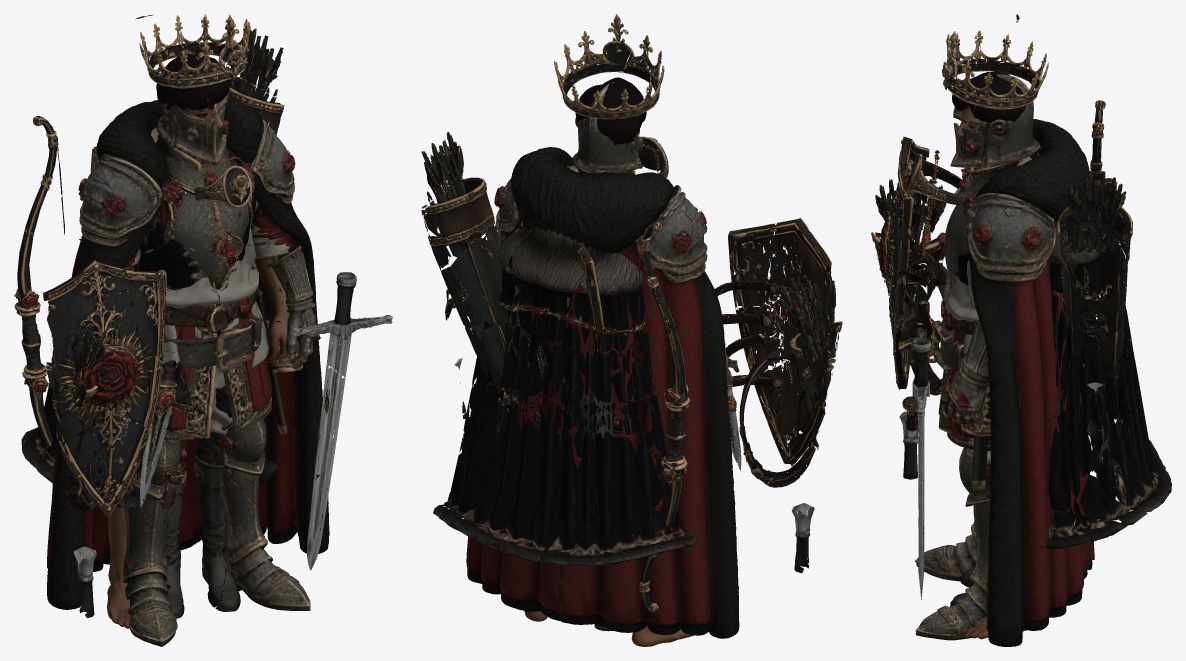
File: valkorion_modular.glb
3 views of the same model, side by side, from view 1: azimuth 30°, elevation 25°; view 2: azimuth 150°, elevation 25°; view 3: azimuth 270°, elevation 25° (orthographic). The views are drawn at different scales.
Visible parts, largest first — view 1: gear__dominus_kite_shield, VA_cloak_outer_screen_right, VA_cloak_outer_screen_left, gear__royal_body, gear__dominus_sword, gear__royal_feet, VA_pauldron_screen_left, gear__dominus_bow, gear__royal_head, gear__dominus_thorn_whip, VA_cuirass_main, foundation__torso (+33 smaller); view 2: gear__royal_cloak, VA_cloak_outer_screen_left, gear__dominus_kite_shield, gear__dominus_quiver, gear__dominus_thorn_whip, VA_cloak_fur_screen_left, VA_cloak_outer_screen_right, gear__dominus_bow, gear__royal_head, VA_cloak_fur_screen_right, VA_pauldron_screen_left, VA_helmet_shell (+5 smaller); view 3: VA_cloak_outer_screen_right, gear__royal_cloak, gear__dominus_quiver, gear__dominus_kite_shield, VA_pauldron_screen_right, VA_cloak_fur_screen_right, gear__royal_head, gear__dominus_thorn_whip, VA_helmet_shell, gear__dominus_sword, VA_boot_screen_right, foundation__head (+19 smaller).
Boxes of the visible parts, <box> form: gear__dominus_kite_shield: <box>43,260,192,517</box>; VA_cloak_outer_screen_right: <box>252,172,329,553</box>; VA_cloak_outer_screen_left: <box>47,187,162,609</box>; gear__royal_body: <box>133,147,258,438</box>; gear__dominus_sword: <box>292,272,392,570</box>; gear__royal_feet: <box>165,454,240,618</box>; VA_pauldron_screen_left: <box>78,154,162,247</box>; gear__dominus_bow: <box>14,116,99,455</box>; gear__royal_head: <box>135,14,250,88</box>; gear__dominus_thorn_whip: <box>46,315,108,617</box>; VA_cuirass_main: <box>153,180,248,290</box>; foundation__torso: <box>130,127,266,367</box>; gear__royal_cloak: <box>433,227,697,565</box>; VA_cloak_outer_screen_left: <box>558,241,739,638</box>; gear__dominus_kite_shield: <box>715,217,832,466</box>; gear__dominus_quiver: <box>421,132,529,418</box>; gear__dominus_thorn_whip: <box>739,274,842,573</box>; VA_cloak_fur_screen_left: <box>562,171,674,255</box>; VA_cloak_outer_screen_right: <box>466,223,568,620</box>; gear__dominus_bow: <box>577,221,690,611</box>; gear__royal_head: <box>554,14,664,119</box>; VA_cloak_fur_screen_right: <box>511,147,581,234</box>; VA_pauldron_screen_left: <box>636,185,707,282</box>; VA_helmet_shell: <box>572,82,643,173</box>; VA_cloak_outer_screen_right: <box>968,219,1090,646</box>; gear__royal_cloak: <box>1043,196,1171,549</box>; gear__dominus_quiver: <box>1057,171,1132,435</box>; gear__dominus_kite_shield: <box>879,136,947,431</box>; VA_pauldron_screen_right: <box>967,193,1056,281</box>; VA_cloak_fur_screen_right: <box>975,143,1088,221</box>; gear__royal_head: <box>942,14,1048,109</box>; gear__dominus_thorn_whip: <box>871,179,948,479</box>; VA_helmet_shell: <box>950,74,1040,168</box>; gear__dominus_sword: <box>911,336,931,599</box>; VA_boot_screen_right: <box>915,583,987,640</box>; foundation__head: <box>952,71,1025,136</box>.
Bounding box in the file's own units: 0.6629 × 1.09 × 0.5178.
51 materials, 51 textured.
